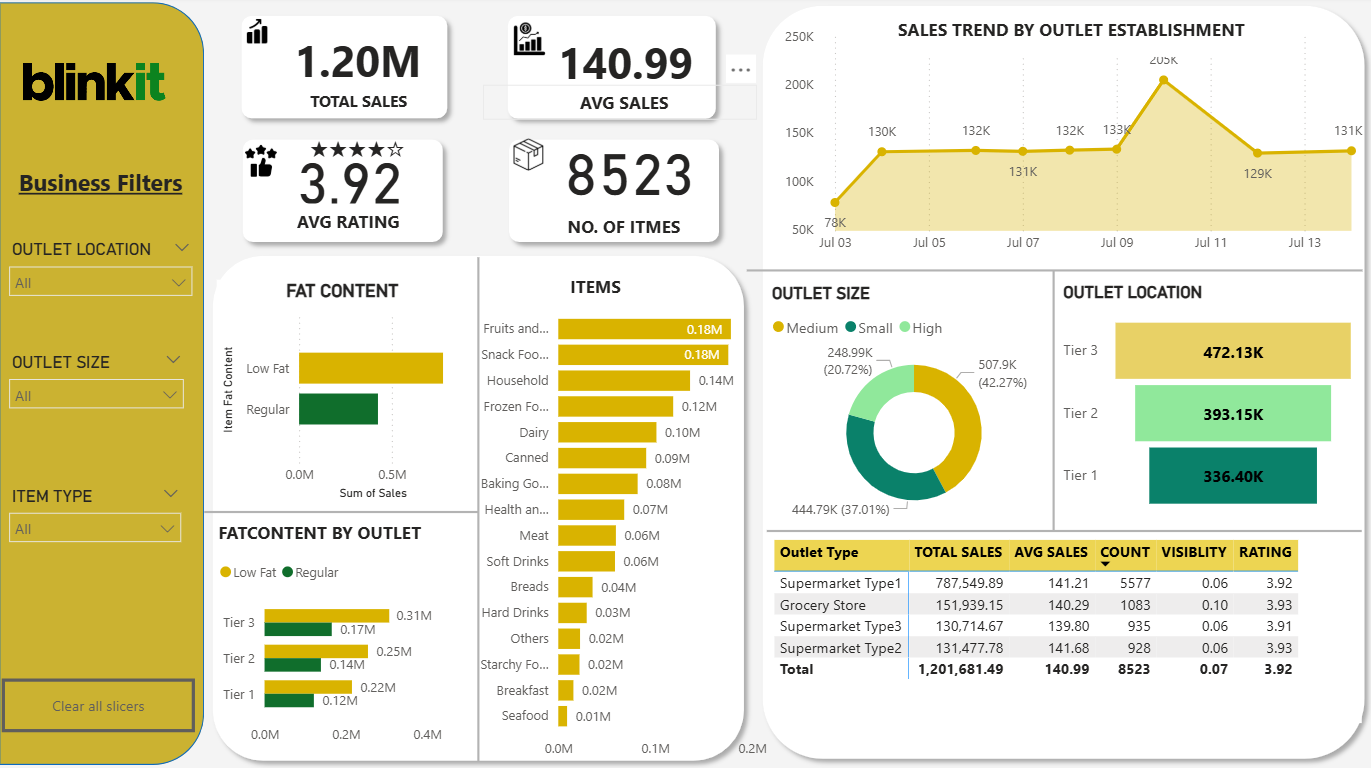

The dashboard page shown, as its layout file describes it:
{"tool":"powerbi","page":{"name":"Page 1","canvas":[1280,720],"ordinal":0},"visuals":[{"type":"shape","box":[1.4,5.4,190.5,709.5],"z":0},{"type":"shape","box":[217.6,9.5,209.5,113.5],"z":1000},{"type":"shape","box":[465.1,9.3,211.6,114],"z":2000},{"type":"shape","box":[218.9,124.3,204.1,113.5],"z":3000},{"type":"shape","box":[466.5,124.2,213.5,113.5],"z":4000},{"type":"shape","box":[190.5,232.4,512.2,487.8],"z":5000},{"type":"shape","box":[702.3,0,577.9,718.6],"z":6000},{"type":"image","box":[0,0,180,165],"z":7000},{"type":"card","fields":{"Values":["Sum(BlinkIT Grocery Data.Sales)"]},"box":[247.3,9.5,174.3,101.4],"z":8000},{"type":"card","fields":{"Values":["Avg(BlinkIT Grocery Data.Rating)"]},"box":[240.7,123.3,174.4,88.4],"z":9000},{"type":"card","fields":{"Values":["CountNonNull(BlinkIT Grocery Data.Item Identifier)"]},"box":[501.6,109.3,174.3,100],"z":10000},{"type":"textbox","box":[201.4,82.4,204.1,43.2],"z":11000},{"type":"textbox","box":[182.5,204.1,158.2,36.5],"z":12000},{"type":"textbox","box":[451.6,82.3,254.1,32.4],"z":13000},{"type":"textbox","box":[462.4,197.2,239.2,35.1],"z":14000},{"type":"barChart","fields":{"Category":["BlinkIT Grocery Data.Item Type"],"Y":["Sum(BlinkIT Grocery Data.Sales)"]},"box":[431.1,278.4,306.8,440.5],"z":15000},{"type":"textbox","box":[479.7,254.1,151.4,35.1],"z":16000},{"type":"clusteredBarChart","fields":{"Category":["BlinkIT Grocery Data.Outlet Location Type"],"Y":["Sum(BlinkIT Grocery Data.Sales)"],"Series":["BlinkIT Grocery Data.Item Fat Content"]},"box":[201.4,516.2,221.6,189.2],"z":17000},{"type":"textbox","box":[82.4,482.4,433.8,64.9],"z":18000},{"type":"barChart","title":"FAT CONTENT","fields":{"Category":["BlinkIT Grocery Data.Item Fat Content"],"Y":["Sum(BlinkIT Grocery Data.Sales)"]},"box":[204.1,263.5,233.8,209.5],"z":19000},{"type":"areaChart","fields":{"Category":["BlinkIT Grocery Data.Outlet Establishment Year.Variation.Date Hierarchy.Year","BlinkIT Grocery Data.Outlet Establishment Year.Variation.Date Hierarchy.Quarter","BlinkIT Grocery Data.Outlet Establishment Year.Variation.Date Hierarchy.Month","BlinkIT Grocery Data.Outlet Establishment Year.Variation.Date Hierarchy.Day"],"Y":["Sum(BlinkIT Grocery Data.Sales)"]},"box":[726.7,23.3,553.5,224.4],"z":20000},{"type":"donutChart","title":"OUTLET SIZE","fields":{"Y":["Sum(BlinkIT Grocery Data.Sales)"],"Category":["BlinkIT Grocery Data.Outlet Size"]},"box":[715.1,267.4,274.4,227.9],"z":21000},{"type":"pivotTable","fields":{"Rows":["BlinkIT Grocery Data.Outlet Type"],"Values":["Sum(BlinkIT Grocery Data.Sales)","Avg(BlinkIT Grocery Data.Sales)","CountNonNull(BlinkIT Grocery Data.Item Identifier)","Avg(BlinkIT Grocery Data.Item Visibility)","Avg(BlinkIT Grocery Data.Rating)"]},"box":[717.4,501.2,551.2,175.6],"z":22000},{"type":"card","fields":{"Values":["Avg(BlinkIT Grocery Data.Sales)"]},"box":[494.9,18.8,177,86.5],"z":23000},{"type":"textbox","box":[273.3,193,123.3,32.6],"z":24000},{"type":"image","box":[218.9,14.9,44.6,35.1],"z":25000},{"type":"image","box":[474.6,17.4,40.5,44.6],"z":26000},{"type":"image","box":[218.9,133.8,51.4,39.2],"z":27000},{"type":"image","box":[467.8,128.3,52.7,39.2],"z":28000},{"type":"shape","box":[436.5,243.2,21.6,468.9],"z":29000},{"type":"shape","box":[191.9,473,255.4,13.5],"z":30000},{"type":"textbox","box":[795.9,14.9,404.1,41.9],"z":31000},{"type":"shape","box":[695.9,245.9,573,17.6],"z":32000},{"type":"shape","box":[972.1,255.8,19.8,241.9],"z":33000},{"type":"shape","box":[715.1,488.4,553.5,18.6],"z":34000},{"type":"funnel","title":"OUTLET LOCATION","fields":{"Y":["Sum(BlinkIT Grocery Data.Sales)"],"Category":["BlinkIT Grocery Data.Outlet Location Type"]},"box":[986,266.3,282.6,222.1],"z":35000},{"type":"slicer","fields":{"Values":["BlinkIT Grocery Data.Outlet Location Type"]},"box":[0,222.1,190.7,83.7],"z":36000},{"type":"slicer","fields":{"Values":["BlinkIT Grocery Data.Outlet Size"]},"box":[0,326.7,182.6,83.7],"z":37000},{"type":"slicer","fields":{"Values":["BlinkIT Grocery Data.Item Type"]},"box":[0,451.2,180.2,83.7],"z":38000},{"type":"actionButton","box":[4.1,635.1,179.7,50],"z":39000},{"type":"textbox","box":[0,153.5,190.7,51.2],"z":40000},{"type":"card","fields":{"Values":["BlinkIT Grocery Data.Star_Rating"]},"box":[190.7,104.7,287.2,77.9],"z":41000}]}

Visuals, with their boxes in screenshot pixels (x1, y1, x2, y2), scaled from the page's 1280x720 canvas onto the 1371x768 screenshot:
shape: (left=1, top=6, right=206, bottom=763)
shape: (left=233, top=10, right=457, bottom=131)
shape: (left=498, top=10, right=725, bottom=132)
shape: (left=234, top=133, right=453, bottom=254)
shape: (left=500, top=132, right=728, bottom=254)
shape: (left=204, top=248, right=753, bottom=767)
shape: (left=752, top=0, right=1370, bottom=767)
image: (left=0, top=0, right=193, bottom=176)
card - Sum(BlinkIT Grocery Data.Sales): (left=265, top=10, right=452, bottom=118)
card - Avg(BlinkIT Grocery Data.Rating): (left=258, top=132, right=445, bottom=226)
card - CountNonNull(BlinkIT Grocery Data.Item Identifier): (left=537, top=117, right=724, bottom=223)
textbox: (left=216, top=88, right=434, bottom=134)
textbox: (left=195, top=218, right=365, bottom=257)
textbox: (left=484, top=88, right=756, bottom=122)
textbox: (left=495, top=210, right=751, bottom=248)
barChart - BlinkIT Grocery Data.Item Type x Sum(BlinkIT Grocery Data.Sales): (left=462, top=297, right=790, bottom=767)
textbox: (left=514, top=271, right=676, bottom=308)
clusteredBarChart - BlinkIT Grocery Data.Outlet Location Type x Sum(BlinkIT Grocery Data.Sales): (left=216, top=551, right=453, bottom=752)
textbox: (left=88, top=515, right=553, bottom=584)
"FAT CONTENT" barChart: (left=219, top=281, right=469, bottom=505)
areaChart - BlinkIT Grocery Data.Outlet Establishment Year.Variation.Date Hierarchy.Year x BlinkIT Grocery Data.Outlet Establishment Year.Variation.Date Hierarchy.Quarter: (left=778, top=25, right=1370, bottom=264)
"OUTLET SIZE" donutChart: (left=766, top=285, right=1060, bottom=528)
pivotTable - BlinkIT Grocery Data.Outlet Type x Sum(BlinkIT Grocery Data.Sales): (left=768, top=535, right=1359, bottom=722)
card - Avg(BlinkIT Grocery Data.Sales): (left=530, top=20, right=720, bottom=112)
textbox: (left=293, top=206, right=425, bottom=241)
image: (left=234, top=16, right=282, bottom=53)
image: (left=508, top=19, right=552, bottom=66)
image: (left=234, top=143, right=290, bottom=185)
image: (left=501, top=137, right=558, bottom=179)
shape: (left=468, top=259, right=491, bottom=760)
shape: (left=206, top=505, right=479, bottom=519)
textbox: (left=852, top=16, right=1285, bottom=61)
shape: (left=745, top=262, right=1359, bottom=281)
shape: (left=1041, top=273, right=1062, bottom=531)
shape: (left=766, top=521, right=1359, bottom=541)
"OUTLET LOCATION" funnel: (left=1056, top=284, right=1359, bottom=521)
slicer - BlinkIT Grocery Data.Outlet Location Type: (left=0, top=237, right=204, bottom=326)
slicer - BlinkIT Grocery Data.Outlet Size: (left=0, top=348, right=196, bottom=438)
slicer - BlinkIT Grocery Data.Item Type: (left=0, top=481, right=193, bottom=571)
actionButton: (left=4, top=677, right=197, bottom=731)
textbox: (left=0, top=164, right=204, bottom=218)
card - BlinkIT Grocery Data.Star_Rating: (left=204, top=112, right=512, bottom=195)
